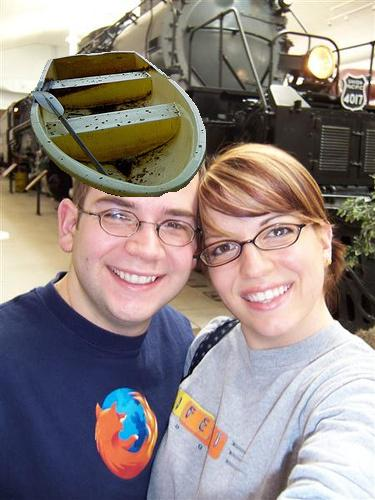tampered: (31, 52, 206, 197)
